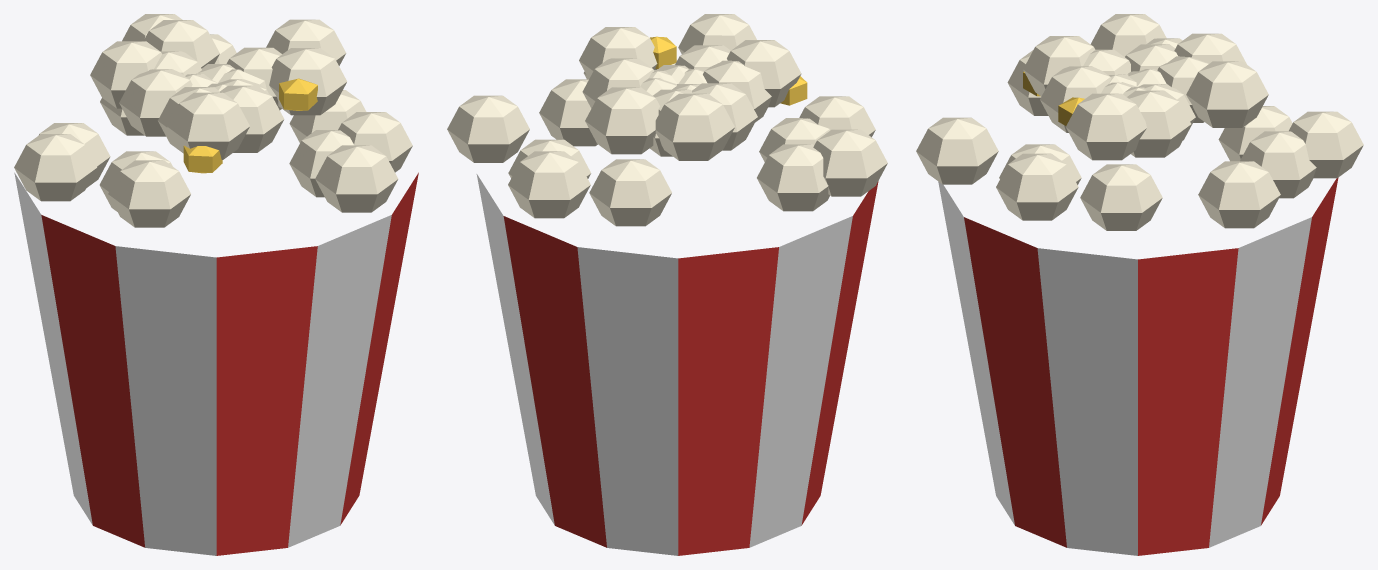
Rendered from popcorn.glb.
3 views of the same model, side by side, from view 1: azimuth 30°, elevation 25°; view 2: azimuth 150°, elevation 25°; view 3: azimuth 270°, elevation 25° (orthographic).
Parts seen in each view (by area): view 1: popcorn; view 2: popcorn; view 3: popcorn.
Boxes of the visible parts, box(x1,y1,x2,y2) form: popcorn: box(14, 14, 418, 555); popcorn: box(447, 14, 887, 555); popcorn: box(916, 14, 1363, 555).
Size of the model in its own units: 0.3602 by 0.4076 by 0.3787.
